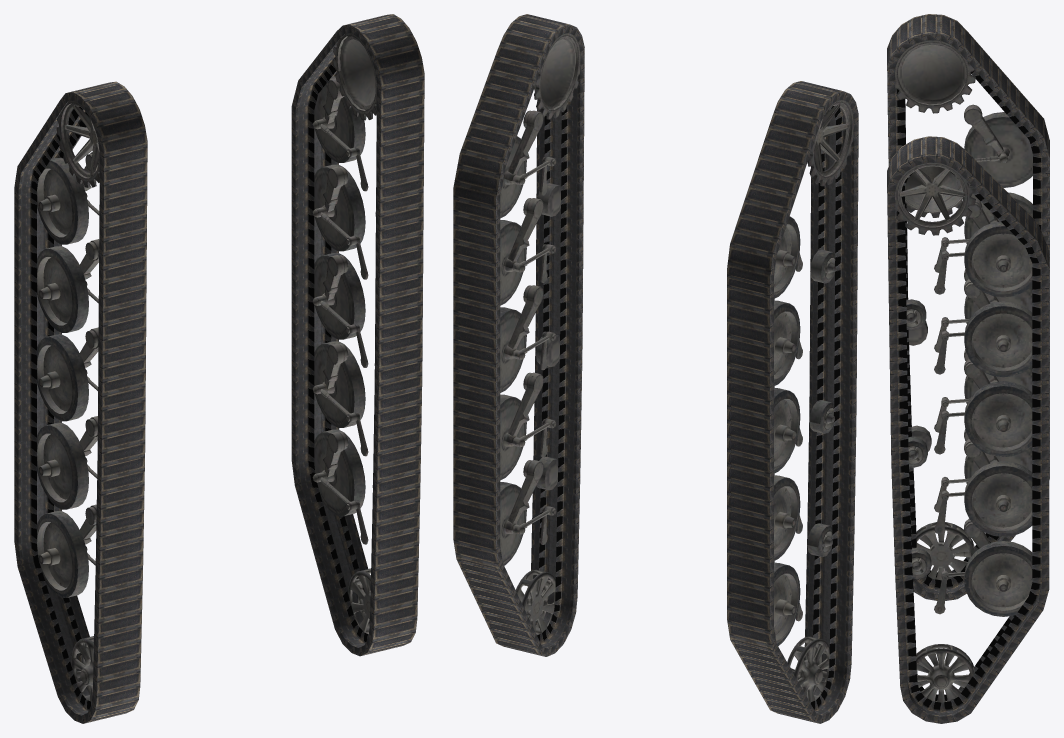
The model's file is Chassis.glb.
3 renders of one model, left to right at view 1: azimuth 30°, elevation 25°; view 2: azimuth 150°, elevation 25°; view 3: azimuth 270°, elevation 25°, orthographic. The views are drawn at different scales.
Visible parts, largest first — view 1: set_1_group_0, set_0_group_0, set_2_group_0, set_3_group_0; view 2: set_0_group_0, set_1_group_0, set_3_group_0, set_2_group_0; view 3: set_3_group_0, set_1_group_0, set_2_group_0, set_0_group_0.
Part boxes in pixels (x1=…): set_1_group_0: x1=291, y1=14, x2=424, y2=656; set_0_group_0: x1=14, y1=81, x2=147, y2=723; set_2_group_0: x1=37, y1=100, x2=99, y2=701; set_3_group_0: x1=312, y1=33, x2=376, y2=633; set_0_group_0: x1=727, y1=81, x2=858, y2=723; set_1_group_0: x1=453, y1=14, x2=584, y2=656; set_3_group_0: x1=500, y1=33, x2=580, y2=634; set_2_group_0: x1=774, y1=100, x2=853, y2=701; set_3_group_0: x1=895, y1=162, x2=1032, y2=702; set_1_group_0: x1=887, y1=136, x2=1049, y2=723; set_2_group_0: x1=895, y1=28, x2=1032, y2=580; set_0_group_0: x1=887, y1=14, x2=1049, y2=600.
Bounding box in the file's own units: 2.26 × 4.23 × 1.1.
4 materials, 4 textured.
